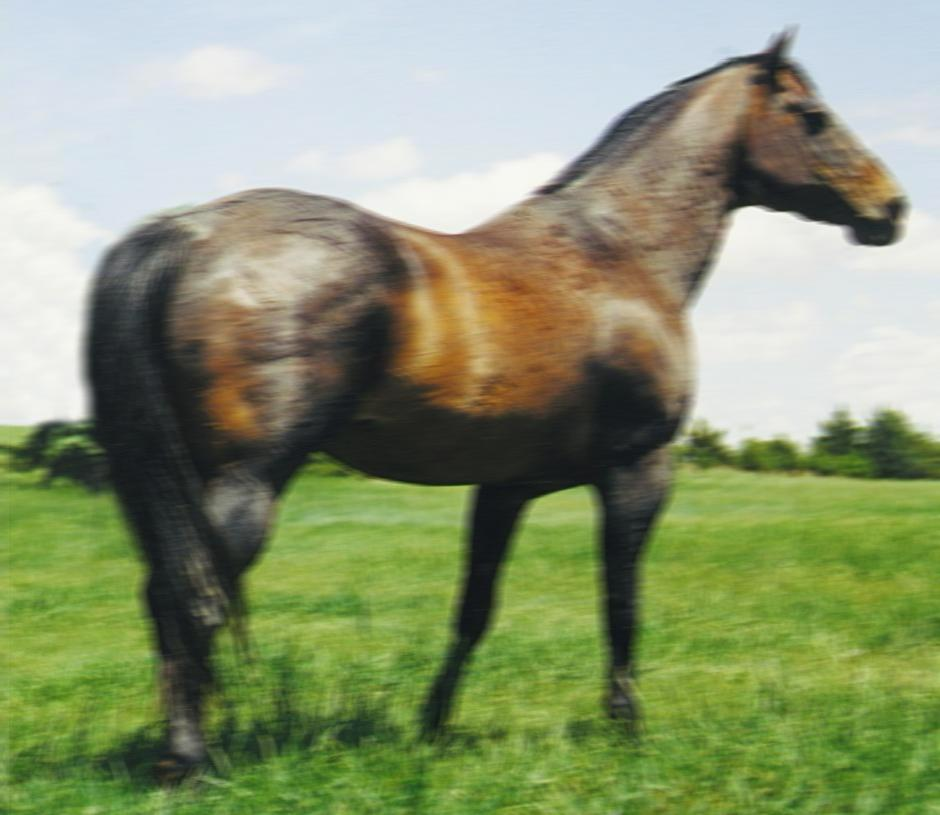horse: (69, 15, 917, 790)
